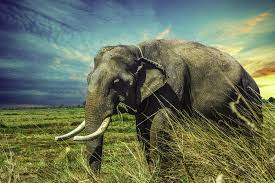elephant: (57, 41, 270, 176)
